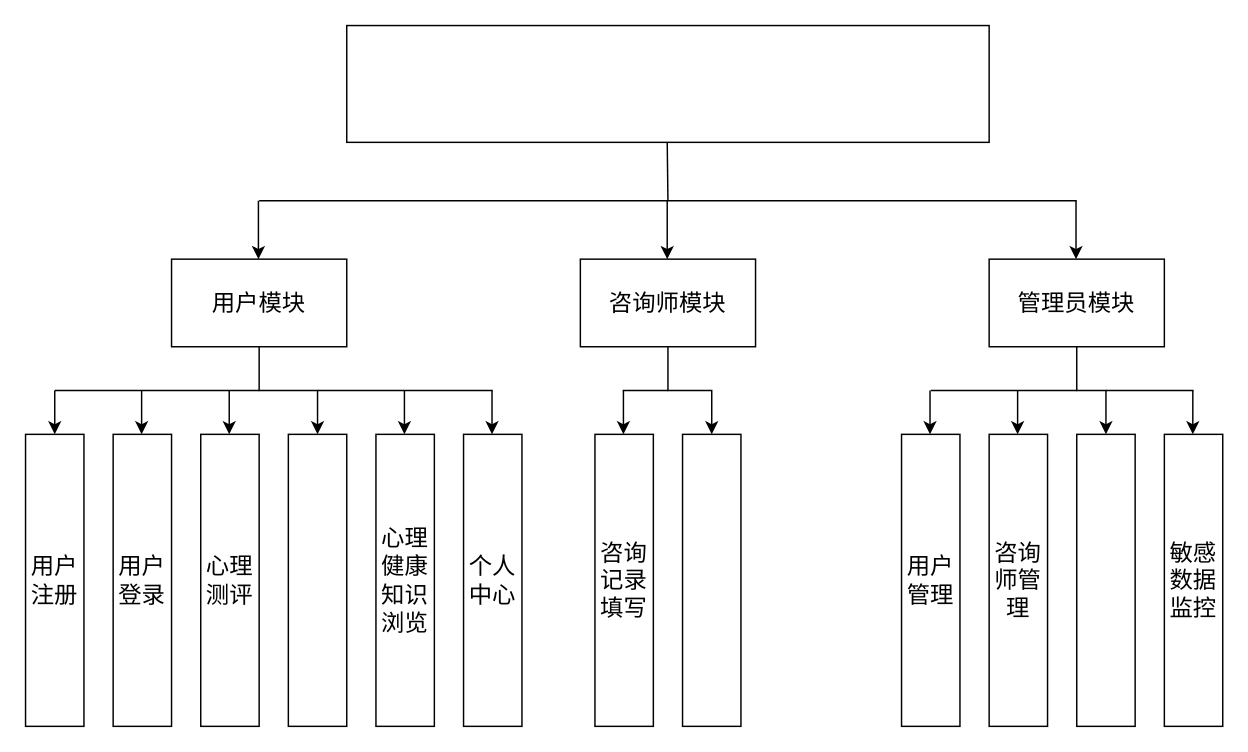
Some shapes in this 1248 by 752 pixel diagram are drawn without their labels. The box of each missing label's shape, as (x1, y1, x2, y2) in pixels:
咨询统计: (681, 433, 741, 726)
在线咨询: (287, 433, 347, 726)
基于SpringBoot和AES加密的大学生心理辅导平台设计与实现: (345, 24, 989, 142)
系统公告发布: (1075, 433, 1135, 726)
